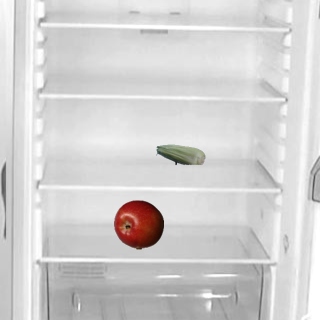Apple Braeburn: (113, 199, 163, 249)
Corn Husk: (155, 129, 205, 179)
